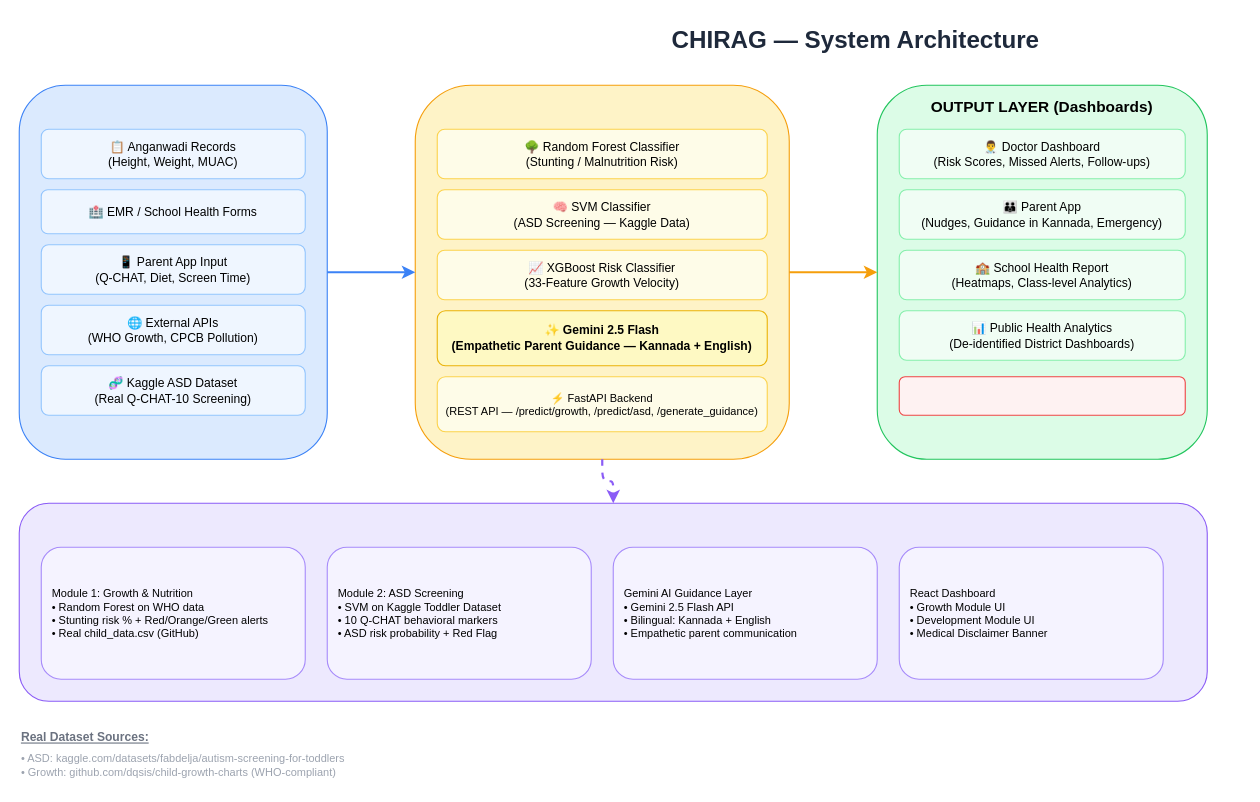
This 1260x802 diagram has some shape labels left out. Each missing label, with the box of its shape:
AI / ML ENGINE: (414, 84, 789, 459)
INPUT LAYER: (18, 84, 327, 459)
⚠️ SCREENING TOOL — NOT DIAGNOSTIC: (898, 376, 1185, 415)
✅ IMPLEMENTED MODULES (GitHub: shiri-09/CHIRAG-IEEE-EPICS): (18, 502, 1207, 701)
